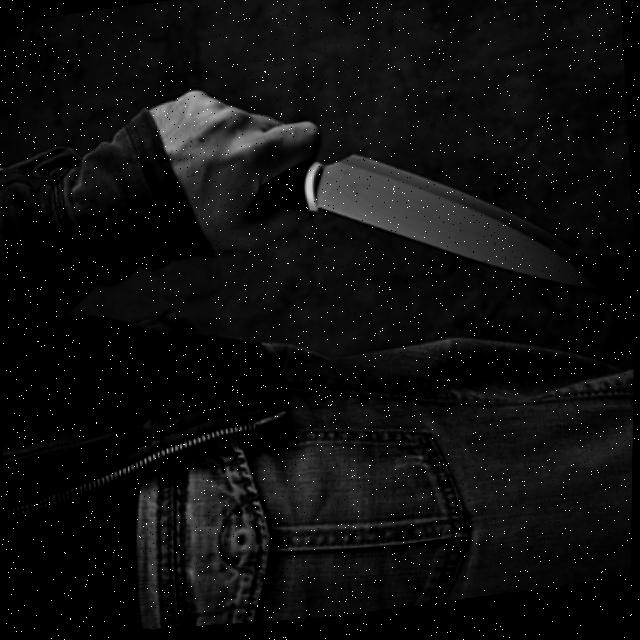knife: (280, 107, 637, 354)
